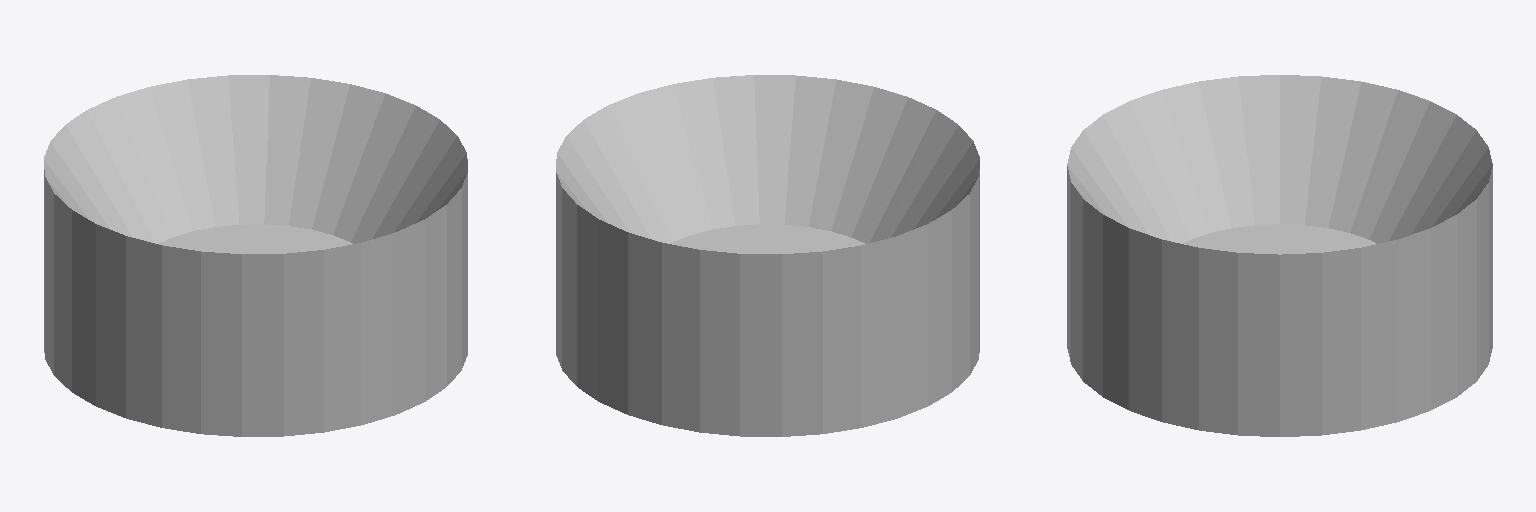
Rendered from brazero.obj.
3 views of the same model, side by side, from view 1: azimuth 30°, elevation 25°; view 2: azimuth 150°, elevation 25°; view 3: azimuth 270°, elevation 25° (orthographic).
Parts seen in each view (by area): view 1: Cylinder; view 2: Cylinder; view 3: Cylinder.
Boxes of the visible parts, x1,y1,x2,y2 form: Cylinder: [44, 75, 467, 436]; Cylinder: [556, 75, 979, 436]; Cylinder: [1067, 75, 1492, 436].
Bounding box in the file's own units: 1.98 × 0.9398 × 1.98.